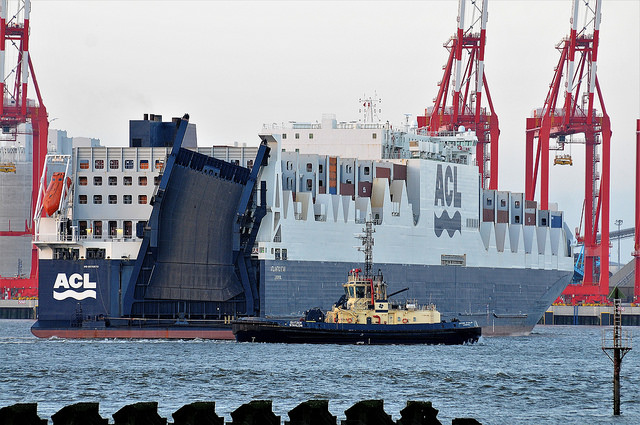container_ship: (32, 116, 573, 338)
tug_boat: (232, 269, 487, 344)
